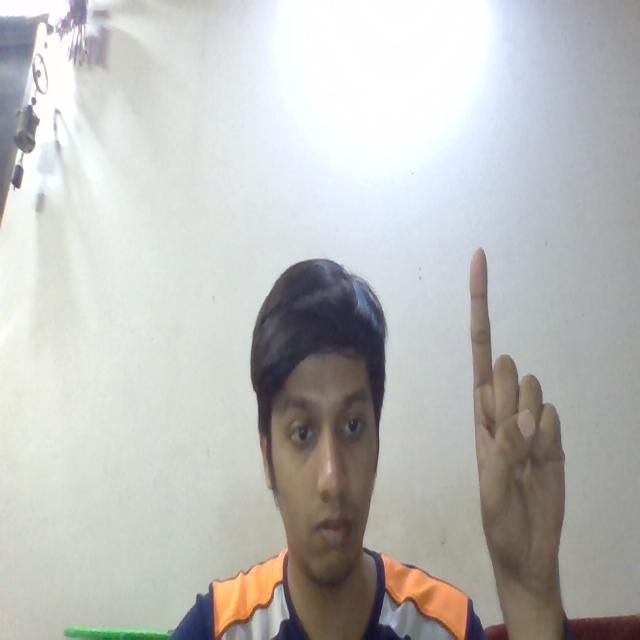Z: (444, 240, 584, 611)
